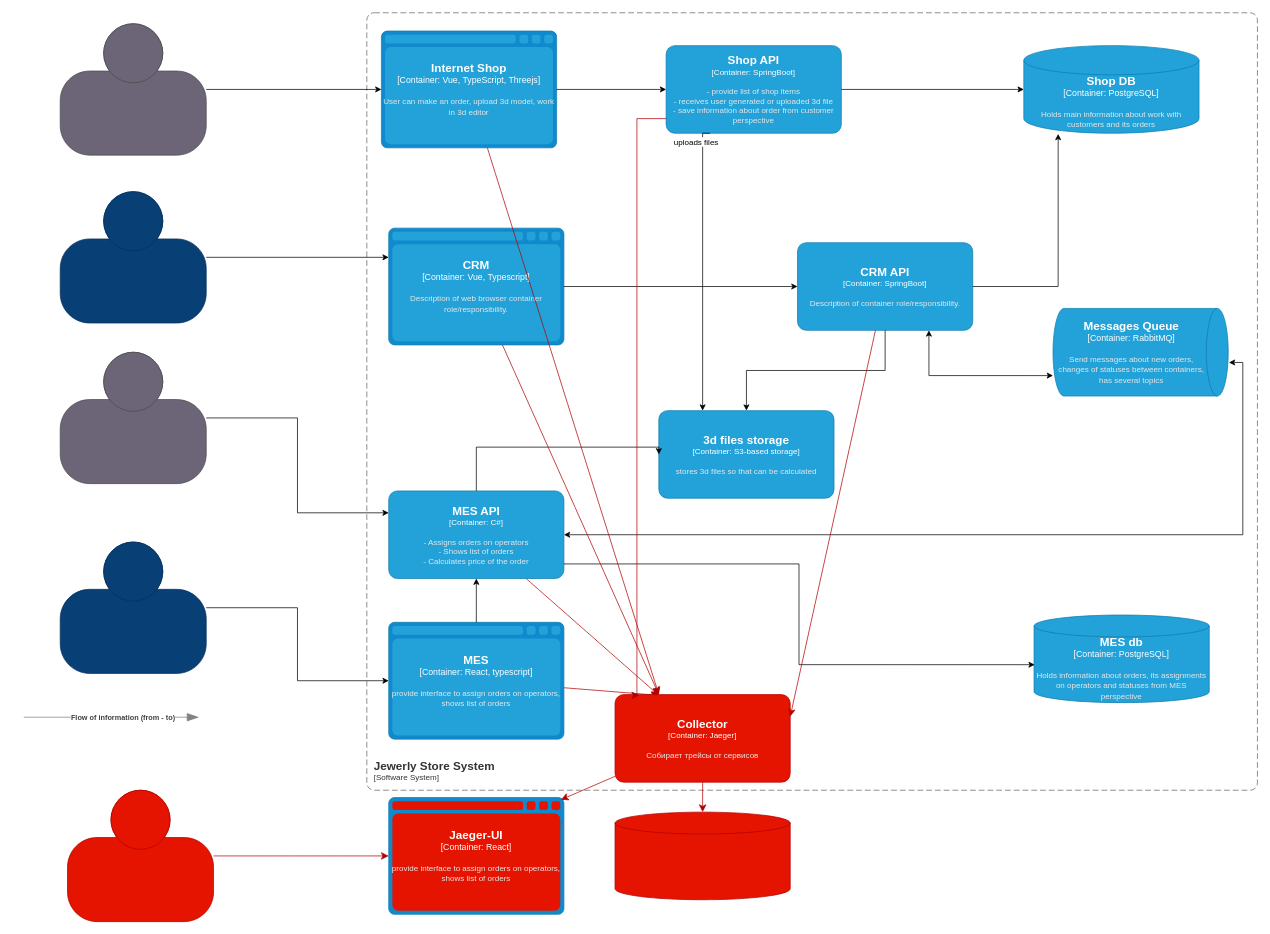
Some shapes in this 1270 by 934 pixel diagram are drawn without their labels. The centre of each missing label's shape, as x and y in pixels:
API user [Person] Description of external person.: point 132,417
API user [Person] Поддержка, Разработчики: point 140,855
Collector db [Container: ClickHouse] Хранит трейсы запросов: point 702,855
Customer [Person] Description of external person.: point 132,89
Operator [Person] Takes order in work, manufactures jewerly: point 132,607
Seller [Person] Operates with order, confirms manufacturing for the user: point 132,257
